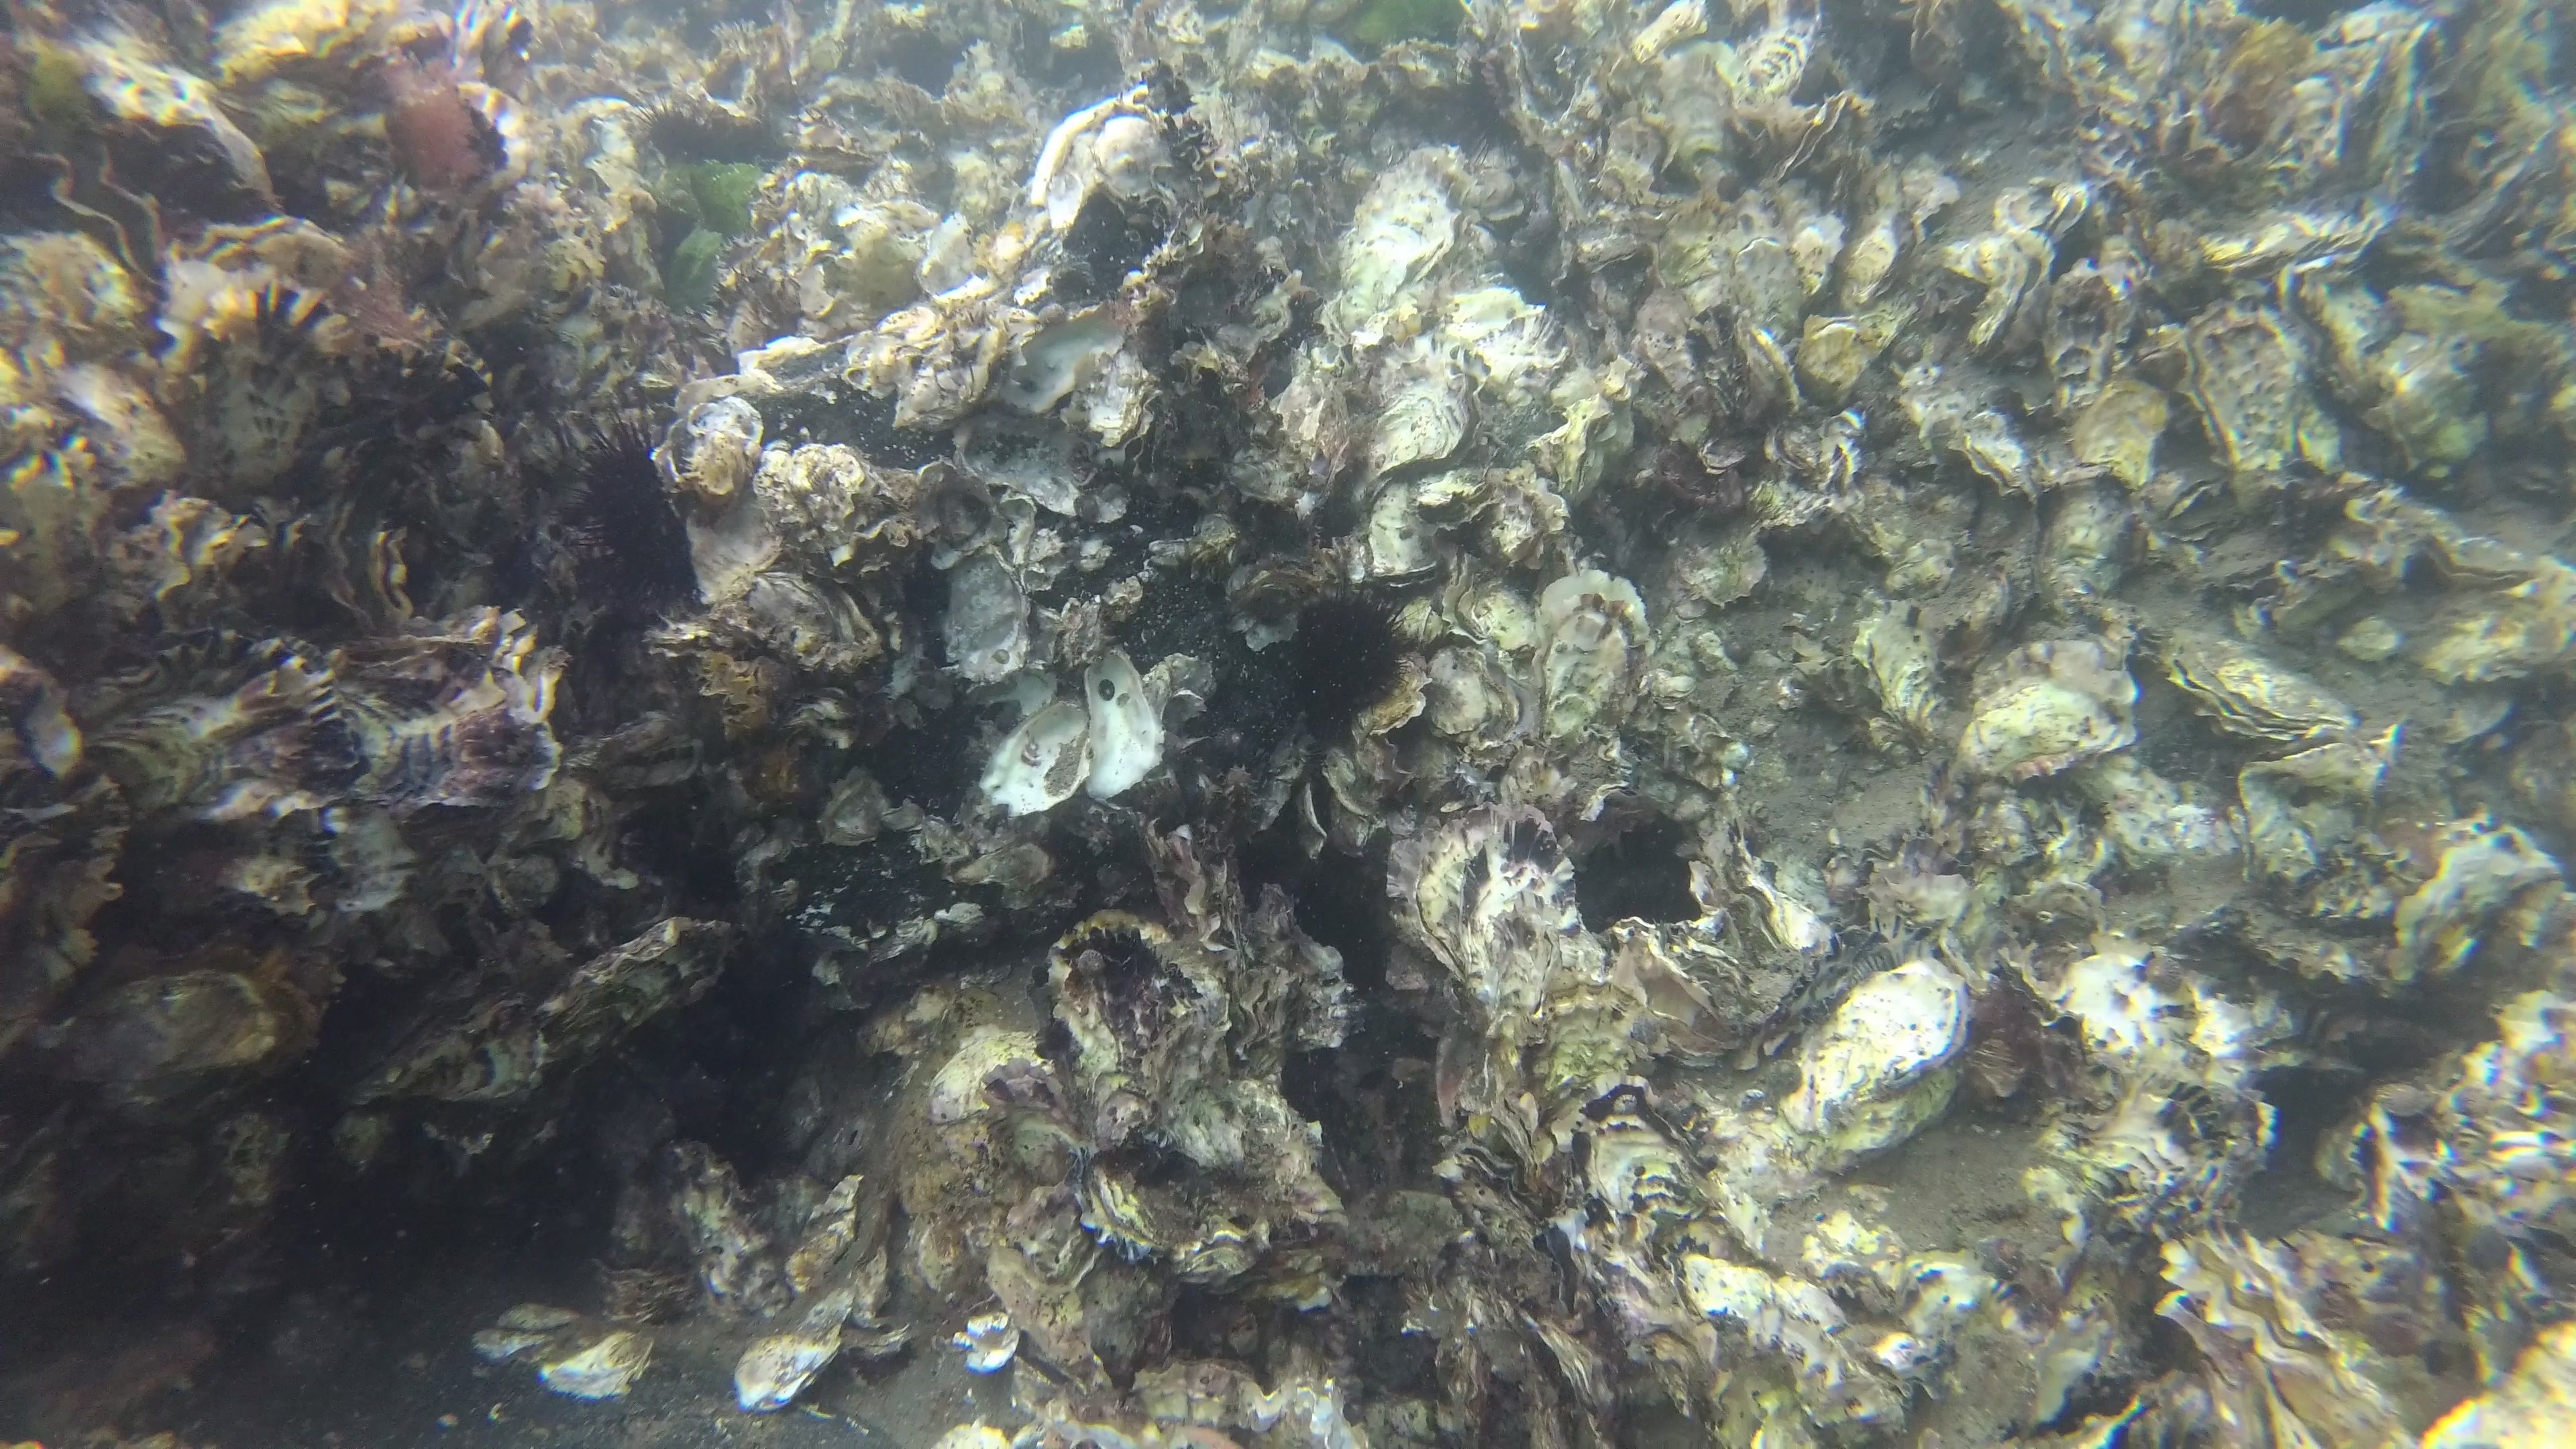echinus: (561, 396, 706, 614), (1297, 575, 1419, 715), (679, 1092, 794, 1189), (632, 92, 724, 165)
